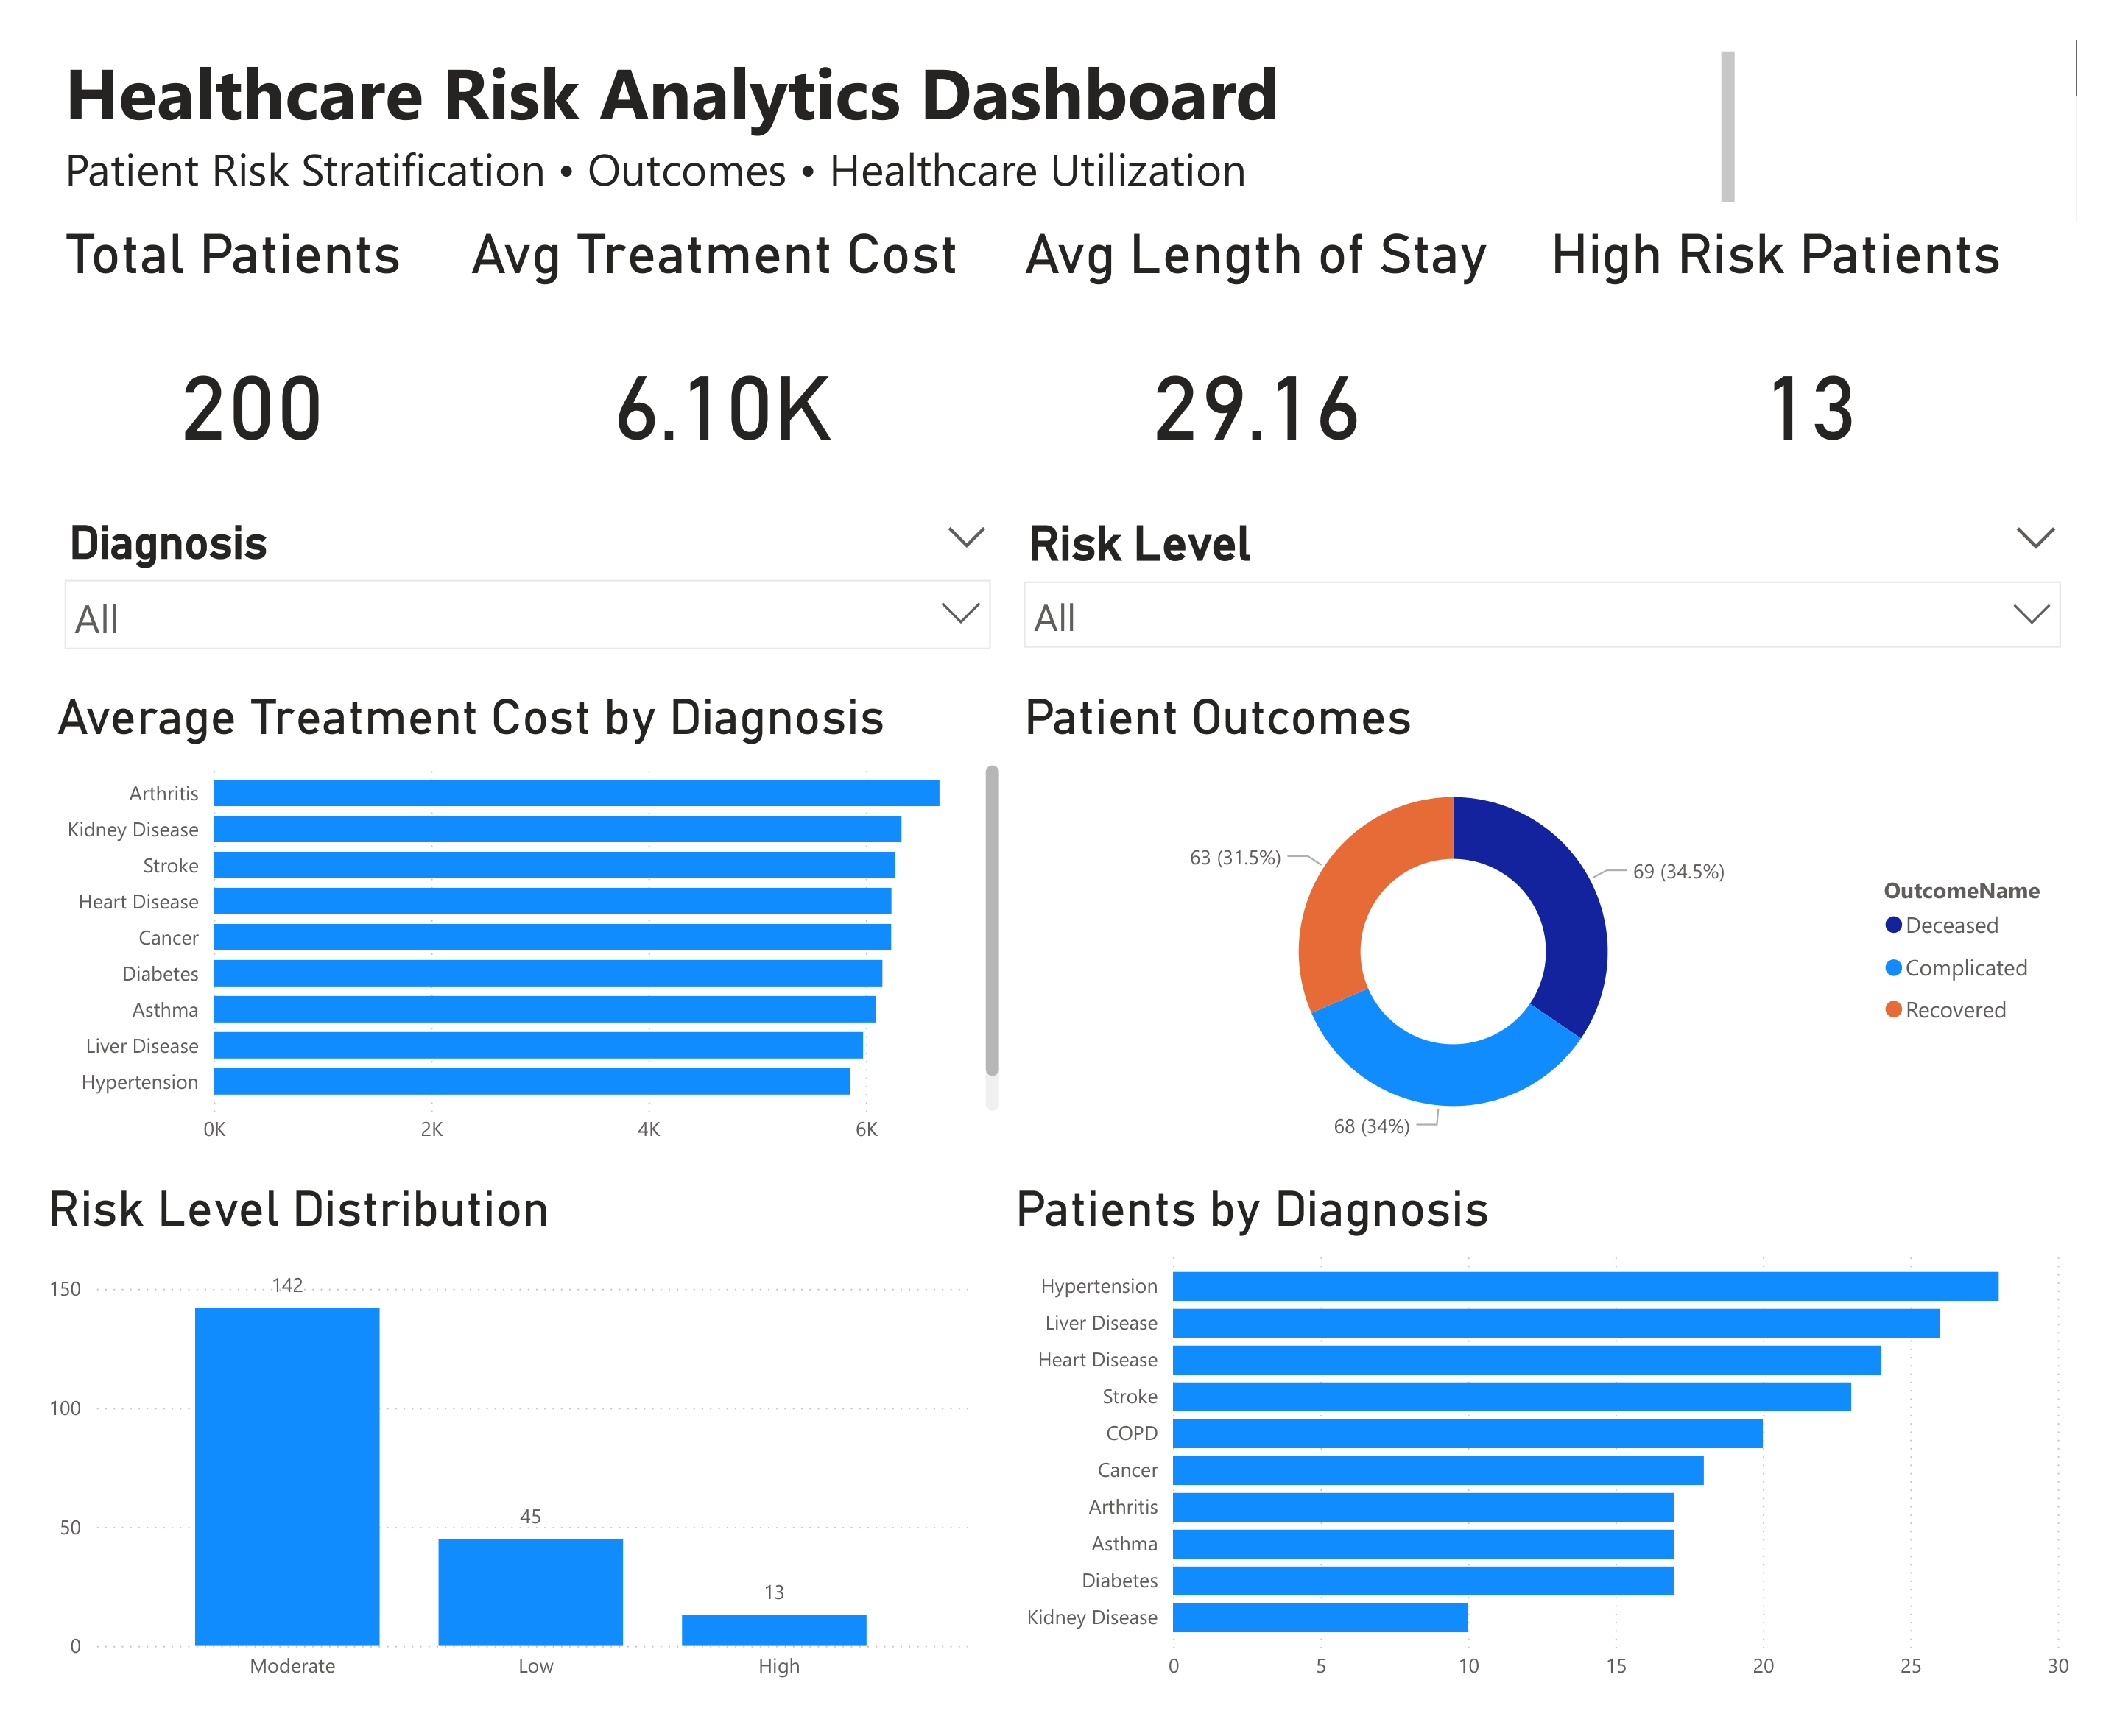

Layout of this report page (visuals, bound fields, positions):
{"tool":"powerbi","page":{"name":"Page 1","canvas":[1229,1000],"ordinal":0},"visuals":[{"type":"textbox","box":[10.2,0,1017.3,110.4],"z":0},{"type":"card","title":"Total Patients","fields":{"Values":["CountNonNull(healthcare_risk_final.PatientID)"]},"box":[10.2,110.4,236.1,171.5],"z":1000},{"type":"card","title":"Avg Treatment Cost","fields":{"Values":["Avg(healthcare_risk_final.TreatmentCost)"]},"box":[254.8,110.4,314.2,171.5],"z":2000},{"type":"card","title":"Avg Length of Stay","fields":{"Values":["Avg(healthcare_risk_final.LengthOfStay)"]},"box":[589.3,110.4,290.4,171.5],"z":3000},{"type":"card","title":"High Risk Patients","fields":{"Values":["CountNonNull(healthcare_risk_final.PatientID)"]},"box":[906.9,110.4,322.7,171.5],"z":4000},{"type":"clusteredColumnChart","title":"Risk Level Distribution","fields":{"Category":["healthcare_risk_final.RiskLevel"],"Y":["CountNonNull(healthcare_risk_final.PatientID)"]},"box":[0,687.8,569,312.5],"z":5000},{"type":"clusteredBarChart","title":"Patients by Diagnosis","fields":{"Category":["healthcare_risk_final.DiagnosisName"],"Y":["CountNonNull(healthcare_risk_final.PatientID)"]},"box":[584.2,687.8,645.4,312.5],"z":6000},{"type":"donutChart","title":"Patient Outcomes","fields":{"Category":["healthcare_risk_final.OutcomeName"],"Y":["CountNonNull(healthcare_risk_final.PatientID)"]},"box":[589.3,390.6,640.3,285.3],"z":7000},{"type":"clusteredBarChart","title":"Average Treatment Cost by Diagnosis","fields":{"Category":["healthcare_risk_final.DiagnosisName"],"Y":["Avg(healthcare_risk_final.TreatmentCost)"]},"box":[5.1,390.6,579.1,285.3],"z":8000},{"type":"slicer","fields":{"Values":["healthcare_risk_final.DiagnosisName"]},"box":[5.1,281.9,579.1,108.7],"z":9000},{"type":"slicer","fields":{"Values":["healthcare_risk_final.RiskLevel"]},"box":[584.2,281.9,645.4,96.8],"z":11000}]}

Visuals, with their boxes in screenshot pixels (x1, y1, x2, y2), scaled from the page's 1229x1000 canvas onto the 2117x1736 screenshot:
textbox: (18, 0, 1770, 191)
"Total Patients" card: (18, 191, 424, 490)
"Avg Treatment Cost" card: (439, 191, 980, 490)
"Avg Length of Stay" card: (1015, 191, 1515, 490)
"High Risk Patients" card: (1563, 191, 2116, 490)
"Risk Level Distribution" clusteredColumnChart: (0, 1194, 980, 1735)
"Patients by Diagnosis" clusteredBarChart: (1007, 1194, 2116, 1735)
"Patient Outcomes" donutChart: (1015, 678, 2116, 1174)
"Average Treatment Cost by Diagnosis" clusteredBarChart: (9, 678, 1007, 1174)
slicer - healthcare_risk_final.DiagnosisName: (9, 490, 1007, 678)
slicer - healthcare_risk_final.RiskLevel: (1007, 490, 2116, 657)
